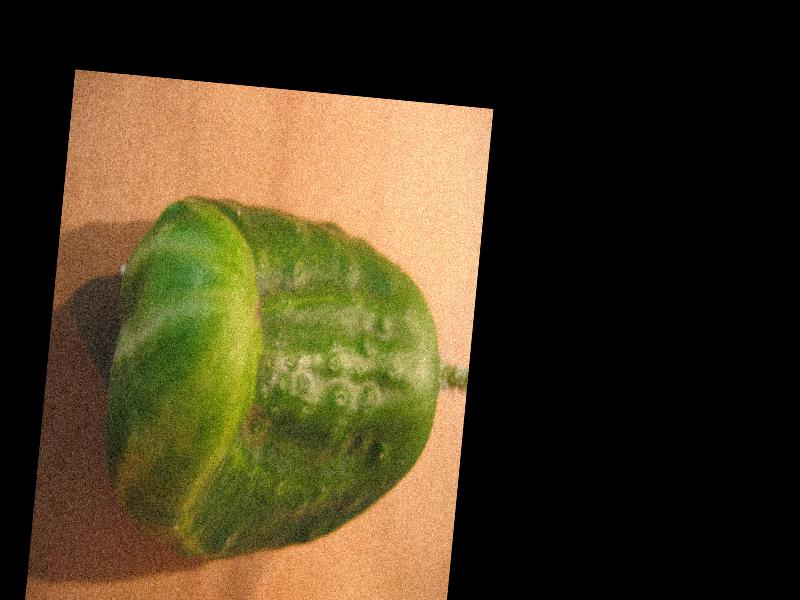Cucumber: (94, 186, 455, 575)
